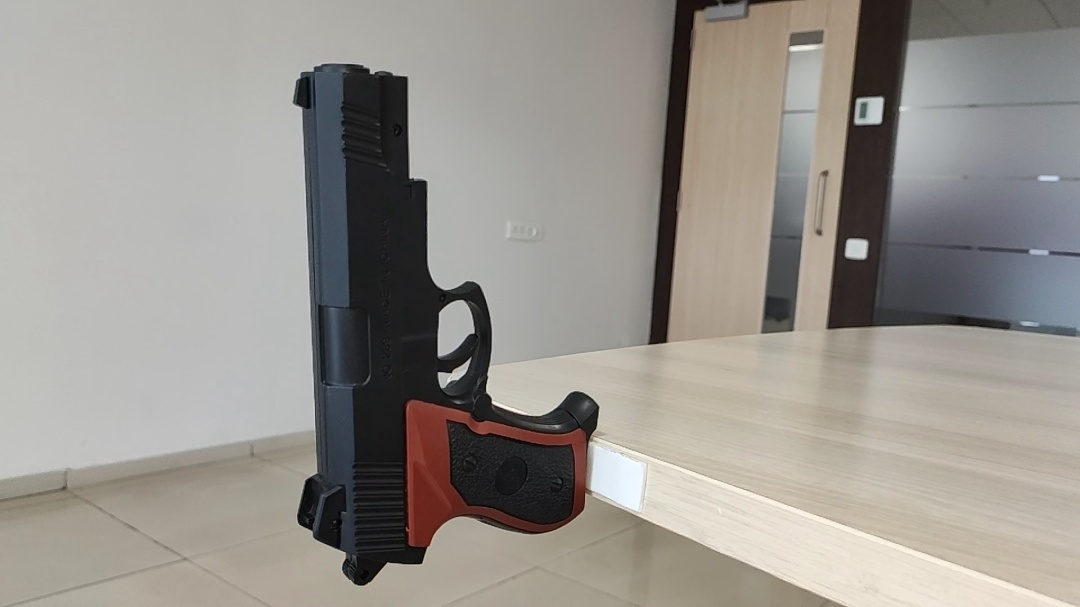gun: (279, 63, 601, 584)
